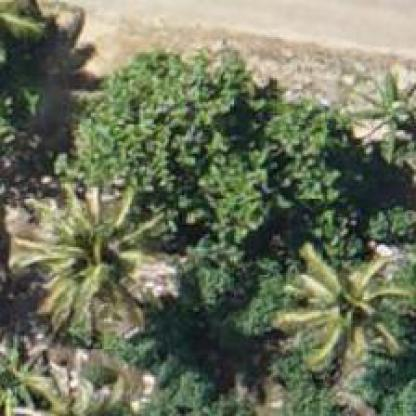coconut tree: (0, 170, 184, 351), (266, 236, 414, 385)
